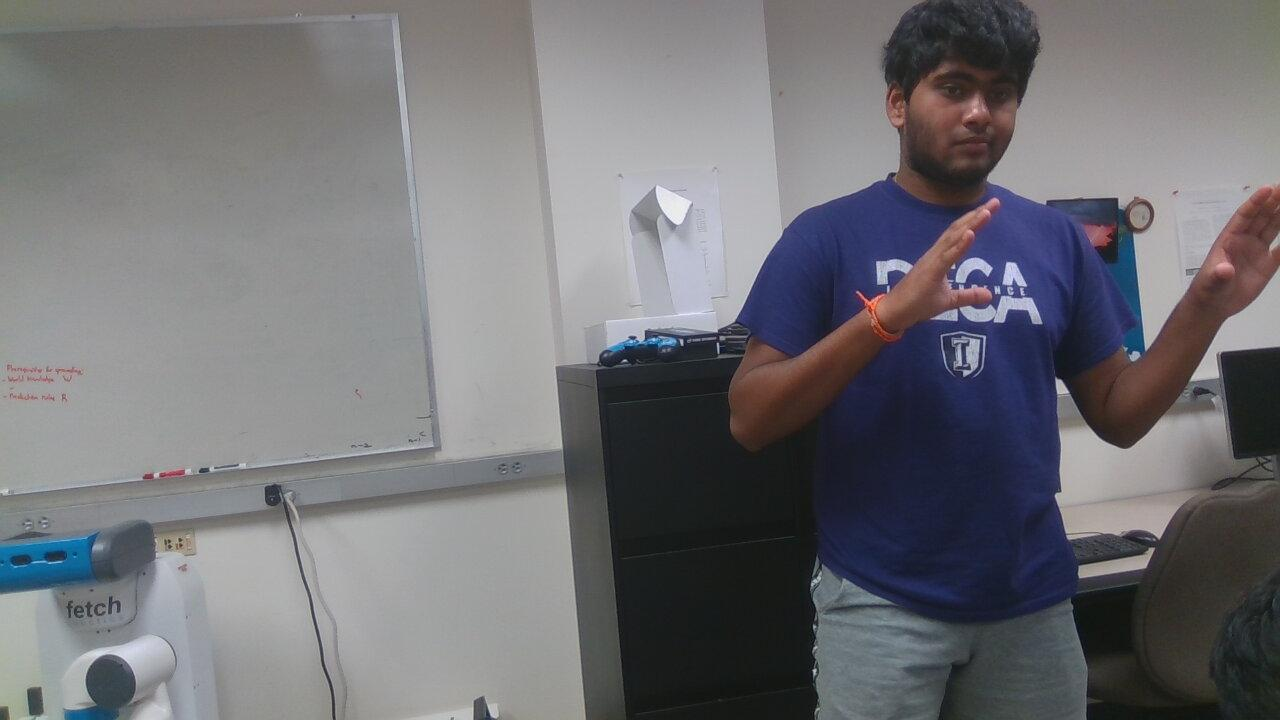hands: (866, 192, 1010, 330), (1195, 179, 1280, 317)
